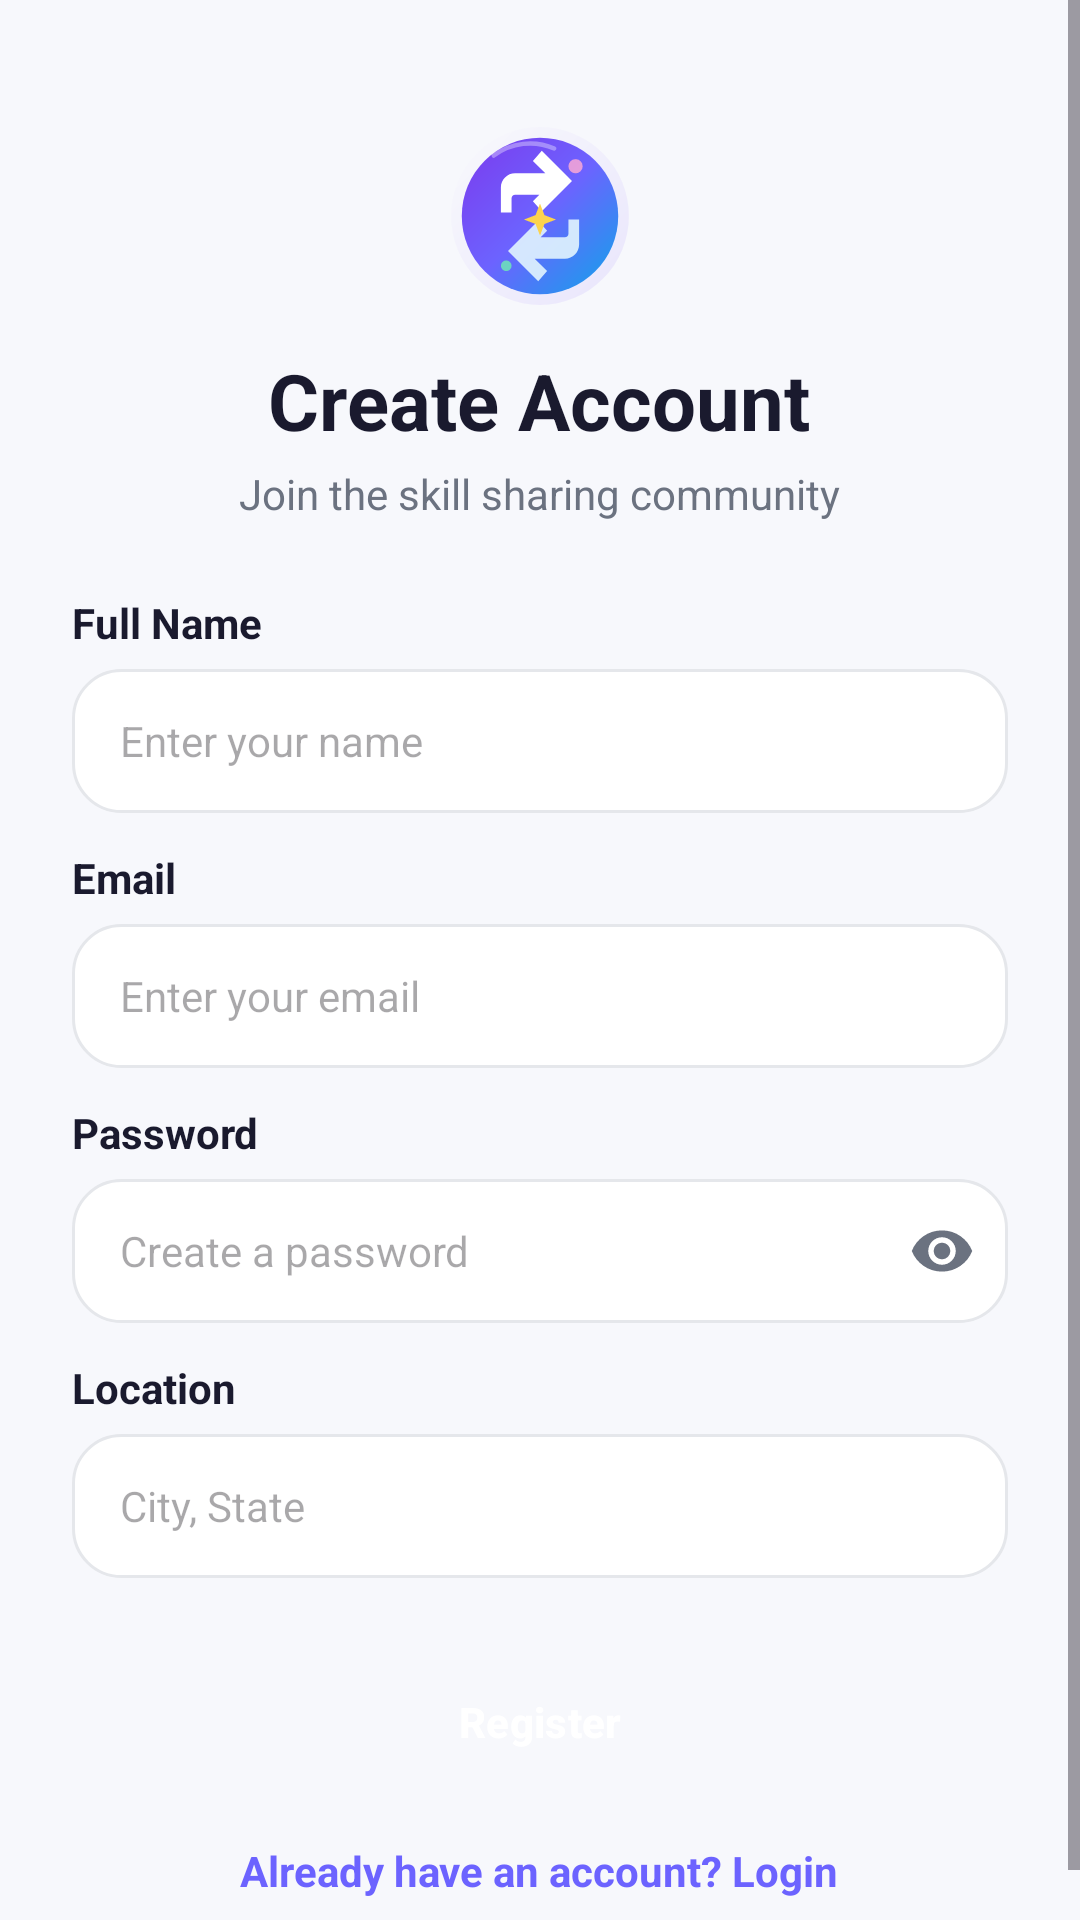

Locate icon controls on the screen. Image size 1080 x 1920, boxes as rect(x1, y1, x2, y2).
Show password: rect(912, 1230, 972, 1272)
